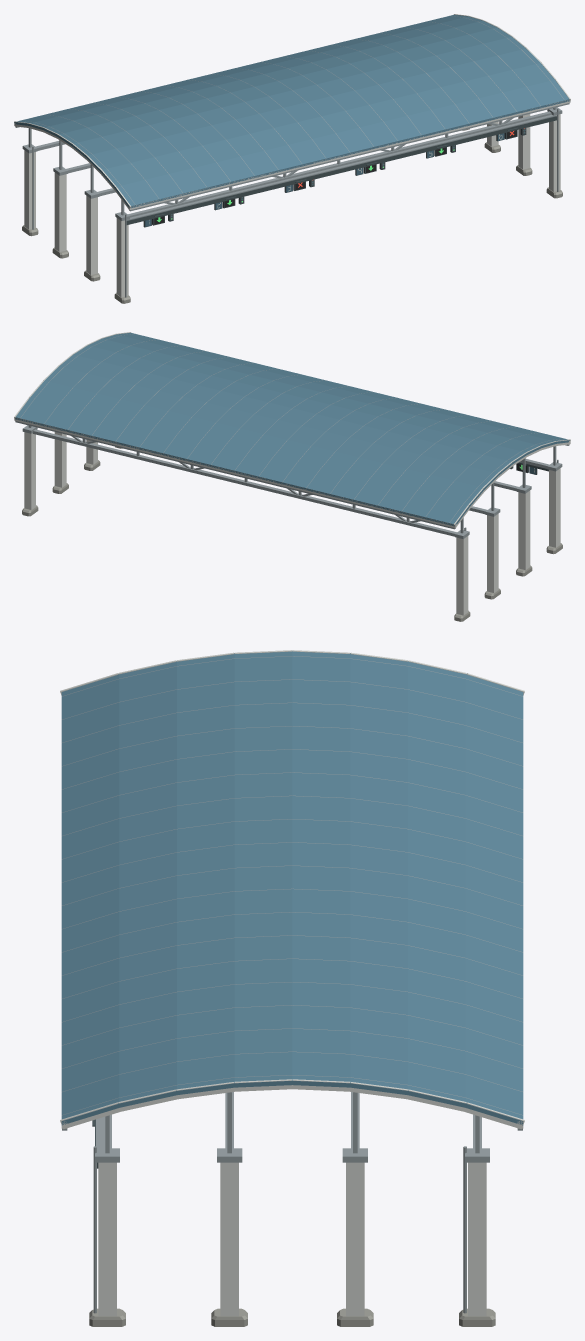
Rendered from sg-checkpoint-canopy.glb.
3 views of the same model, one above another, from view 1: azimuth 30°, elevation 25°; view 2: azimuth 150°, elevation 25°; view 3: azimuth 270°, elevation 25° (orthographic). The views are drawn at different scales.
Visible parts, largest first — view 1: canopy_roof, portal_columns, lane_gantry, portal_trusses; view 2: canopy_roof, portal_columns, portal_trusses; view 3: canopy_roof, portal_columns, portal_trusses.
Part boxes in pixels (x1,y1,x2,y2): canopy_roof: [14, 14, 570, 211]; portal_columns: [22, 107, 562, 303]; lane_gantry: [126, 114, 556, 224]; portal_trusses: [28, 107, 556, 217]; canopy_roof: [14, 332, 570, 529]; portal_columns: [22, 425, 562, 621]; portal_trusses: [28, 425, 556, 536]; canopy_roof: [60, 650, 524, 1130]; portal_columns: [89, 1146, 495, 1326]; portal_trusses: [103, 1092, 481, 1153].
Bounding box in the file's own units: 30 × 8.01 × 13.69.
